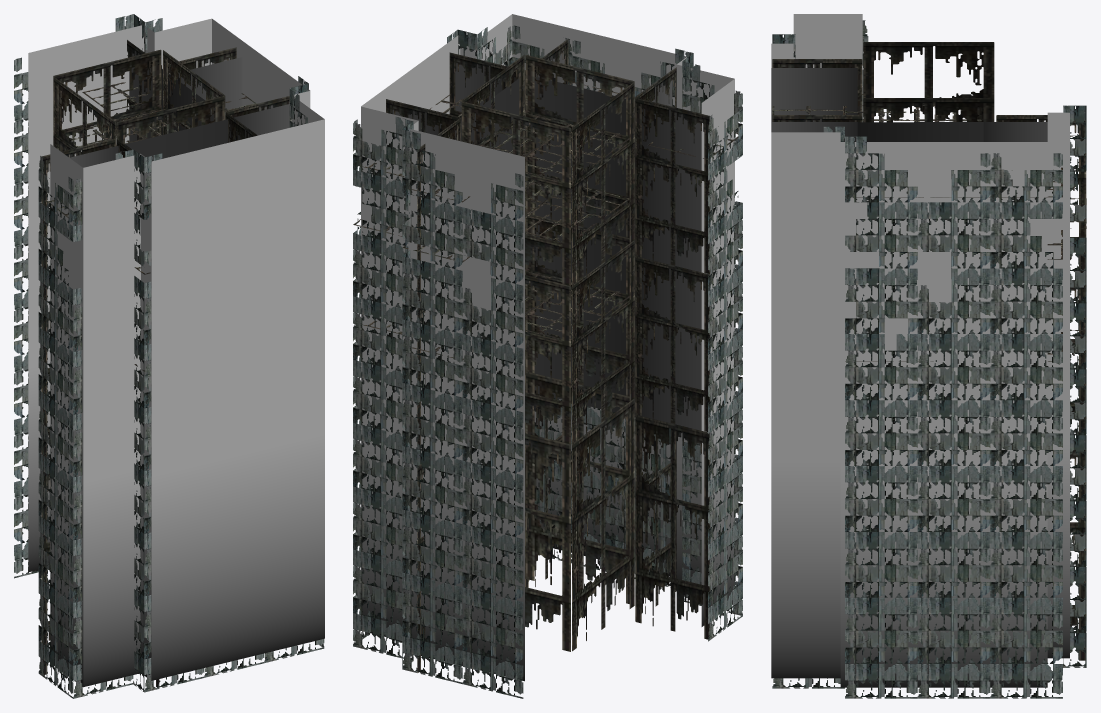
Rendered from BGBLD04.FBX.
The picture shows the model from 3 angles, left to right: view 1: azimuth 30°, elevation 25°; view 2: azimuth 150°, elevation 25°; view 3: azimuth 270°, elevation 25°; orthographic projection. The views are drawn at different scales.
Parts seen in each view (by area): view 1: BGBLD04_lod:0, BGBLD04:4; view 2: BGBLD04:4, BGBLD04_lod:0; view 3: BGBLD04_lod:0, BGBLD04:4.
Part boxes in pixels (x1,y1,x2,y2): BGBLD04_lod:0: [28, 18, 324, 687]; BGBLD04:4: [14, 14, 324, 698]; BGBLD04:4: [353, 25, 742, 698]; BGBLD04_lod:0: [361, 14, 734, 681]; BGBLD04_lod:0: [771, 14, 1069, 687]; BGBLD04:4: [772, 20, 1086, 698].
Size of the model in its own units: 22.13 by 43.71 by 22.18.
